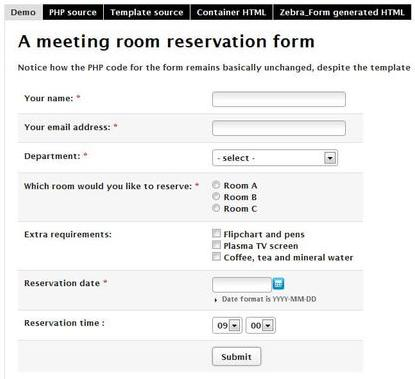button: (211, 346, 262, 367)
checkbox: (211, 250, 221, 262), (212, 227, 222, 238), (211, 239, 221, 250)
checkbox_with_label: (210, 249, 355, 263), (210, 226, 305, 239), (211, 238, 299, 251)
field: (210, 119, 347, 136), (211, 148, 339, 166), (211, 91, 347, 107), (210, 276, 272, 293), (212, 316, 243, 335), (245, 317, 277, 335)
field_with_label: (25, 146, 341, 167), (25, 88, 348, 108), (25, 117, 348, 137), (23, 275, 274, 294), (24, 315, 243, 336)
radio: (211, 201, 221, 213), (212, 178, 221, 190), (211, 190, 220, 201)
radio_with_label: (210, 177, 257, 191), (210, 190, 257, 202), (210, 202, 257, 214)
